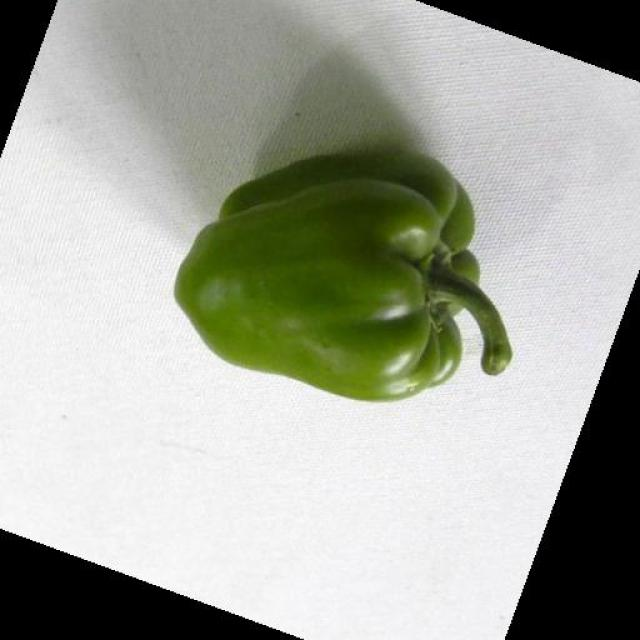Fresh_Capsicum: (175, 188, 499, 390)
